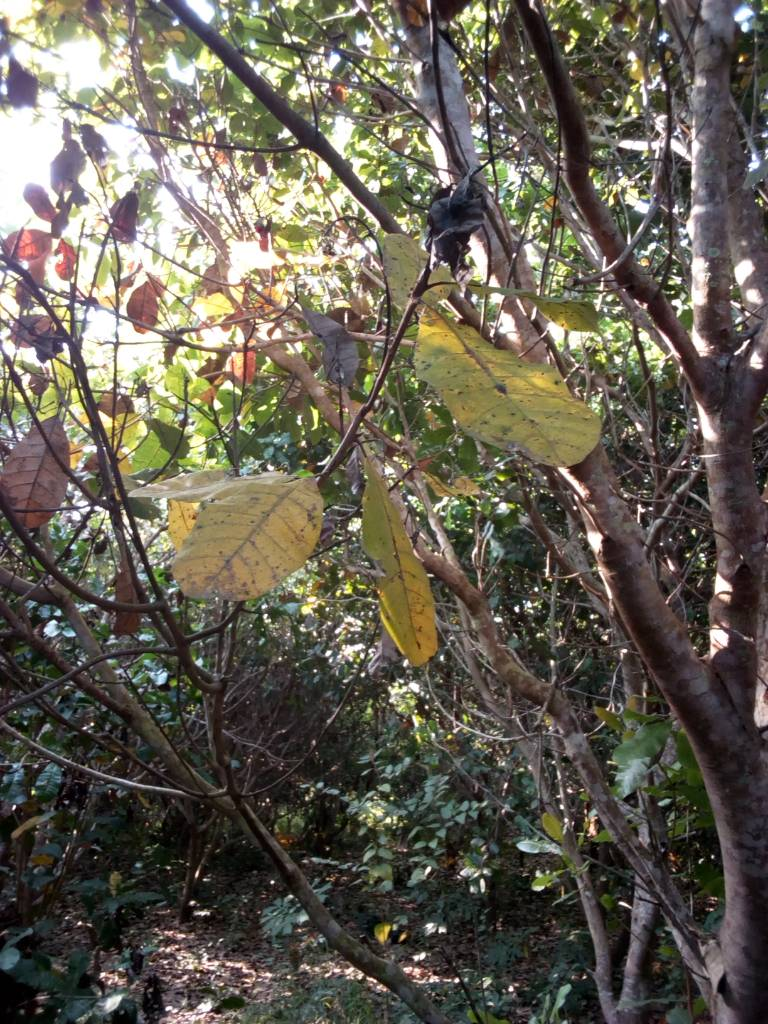Anthracnose: (415, 299, 604, 477), (165, 472, 325, 603), (357, 458, 440, 669)
